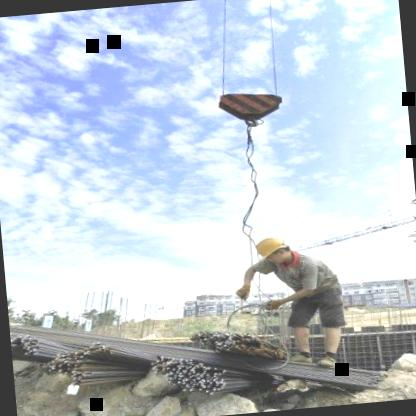helmet: (252, 230, 299, 274)
